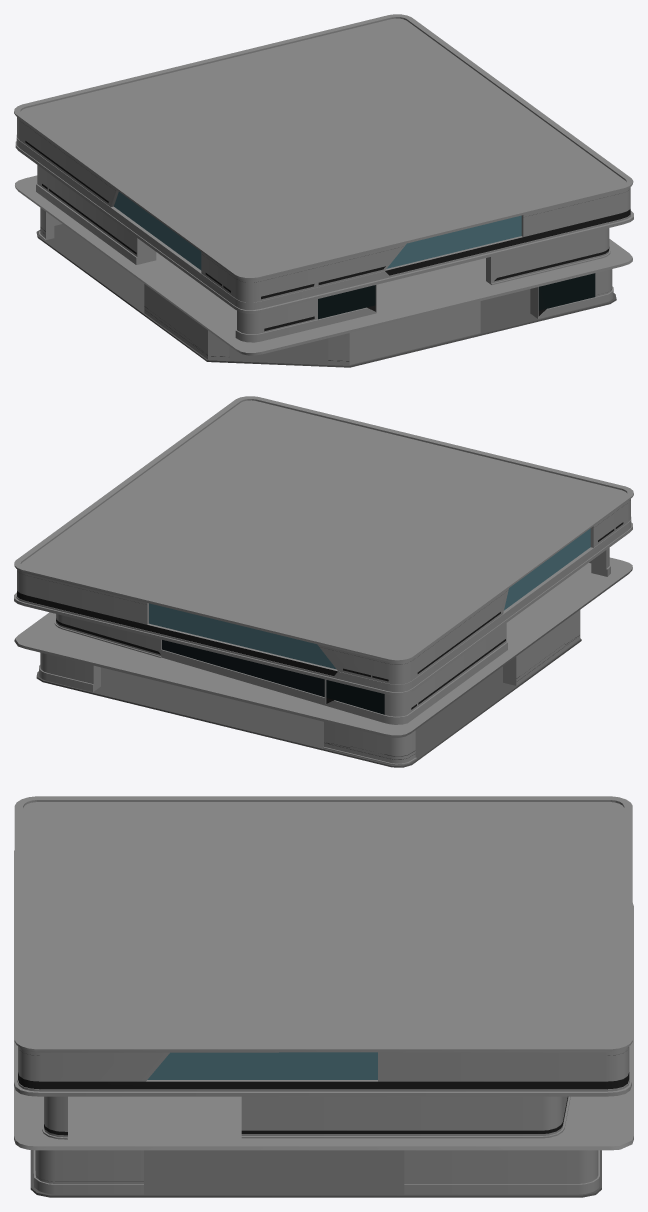
Rendered from Building_Hana_002_1st_L1.fbx.
3 renders of one model, top to bottom at view 1: azimuth 30°, elevation 25°; view 2: azimuth 150°, elevation 25°; view 3: azimuth 270°, elevation 25°, orthographic. The views are drawn at different scales.
Parts seen in each view (by area): view 1: Building_Hana_002_1st_L1; view 2: Building_Hana_002_1st_L1; view 3: Building_Hana_002_1st_L1.
Boxes of the visible parts, box(x1,y1,x2,y2) form: Building_Hana_002_1st_L1: box(14, 14, 633, 367); Building_Hana_002_1st_L1: box(14, 396, 633, 767); Building_Hana_002_1st_L1: box(14, 796, 633, 1197).
Bounding box in the file's own units: 55.24 × 15.78 × 57.14.
